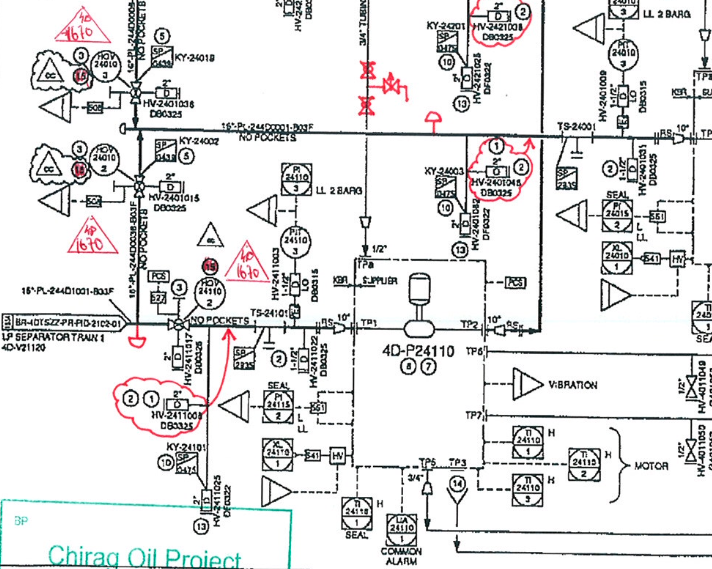Instrument: (189, 273, 229, 314), (606, 33, 643, 77), (88, 45, 125, 88), (278, 222, 315, 262), (88, 142, 123, 179)
Instrument-square: (506, 470, 549, 511), (277, 157, 316, 201), (564, 441, 603, 485), (259, 384, 296, 430), (598, 195, 638, 236), (599, 238, 638, 279), (380, 511, 420, 550), (508, 421, 546, 462), (260, 432, 296, 475), (338, 494, 376, 534)
